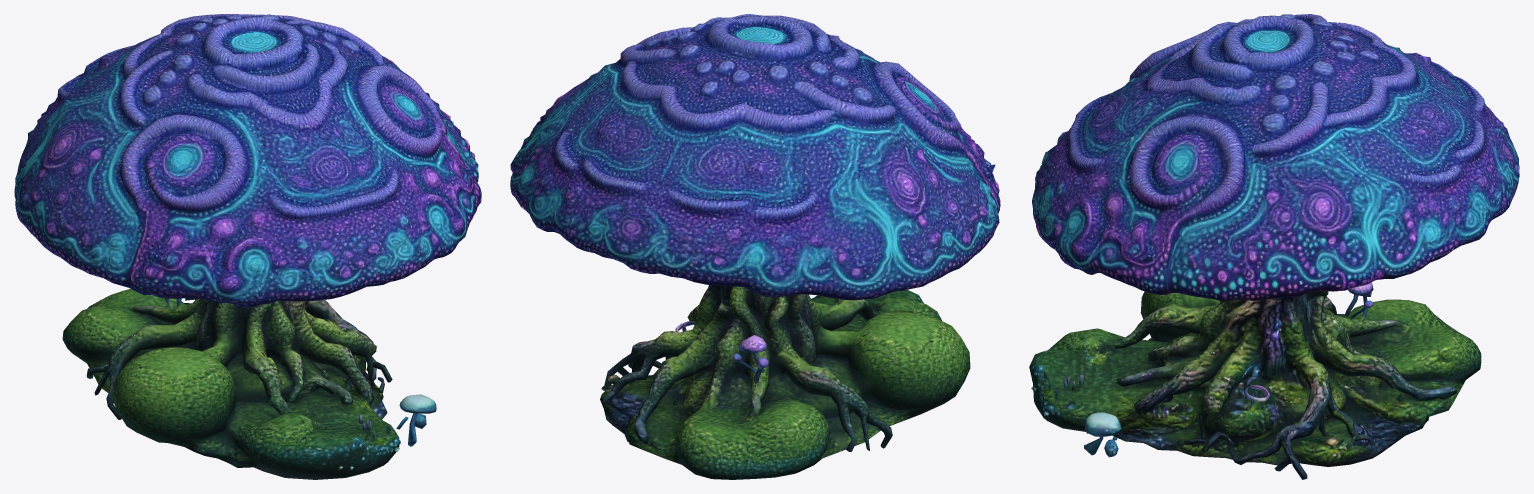
File: mushroom.glb
3 renders of one model, left to right at view 1: azimuth 30°, elevation 25°; view 2: azimuth 150°, elevation 25°; view 3: azimuth 270°, elevation 25°, orthographic. The views are drawn at different scales.
Parts seen in each view (by area): view 1: tripo_node_a6410784-4074-4326-9990-b6c70c849b9f; view 2: tripo_node_a6410784-4074-4326-9990-b6c70c849b9f; view 3: tripo_node_a6410784-4074-4326-9990-b6c70c849b9f.
Part boxes in pixels (x1,y1,x2,y2): tripo_node_a6410784-4074-4326-9990-b6c70c849b9f: (14,14,481,479); tripo_node_a6410784-4074-4326-9990-b6c70c849b9f: (510,14,1000,479); tripo_node_a6410784-4074-4326-9990-b6c70c849b9f: (1029,14,1519,479).
Size of the model in its own units: 0.9941 by 0.8669 by 0.998.
Materials: 1 (1 with a texture image).
